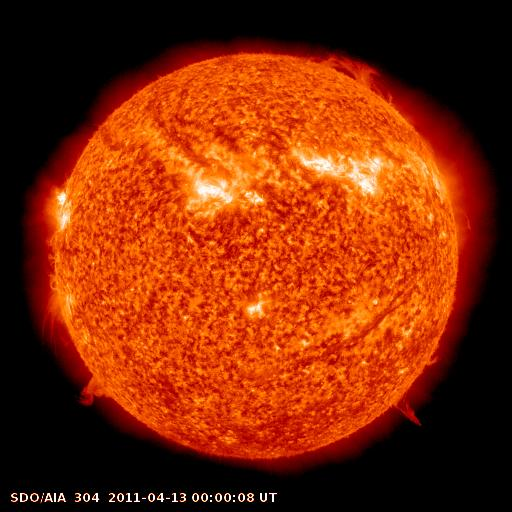prominence: (306, 44, 399, 109), (32, 292, 82, 348), (69, 366, 124, 412), (386, 387, 430, 435), (419, 339, 449, 369)
